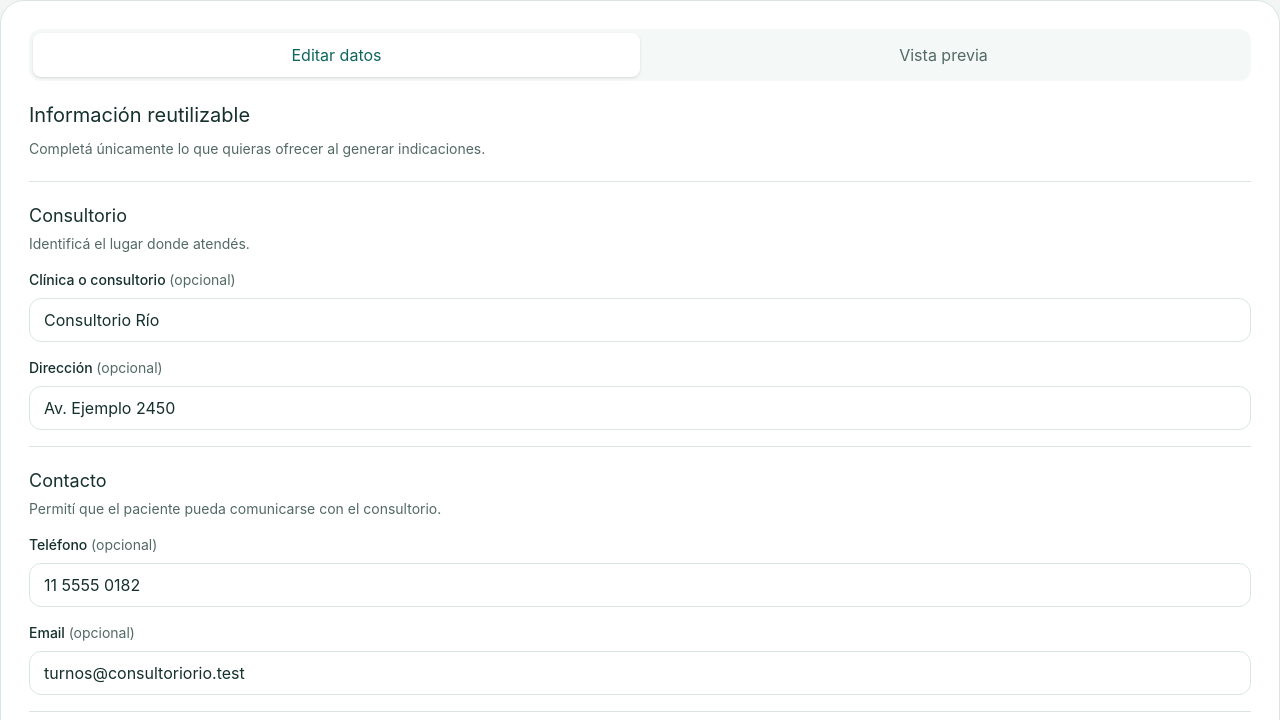
Test: DocumentSettingsForm › switches between editing and the live preview on mobile
Replace the text in the field labelled "Clínica o consultorio (opcional)" with "Consultorio del Parque" at coordinates (640, 320), box [29,298,1251,342]
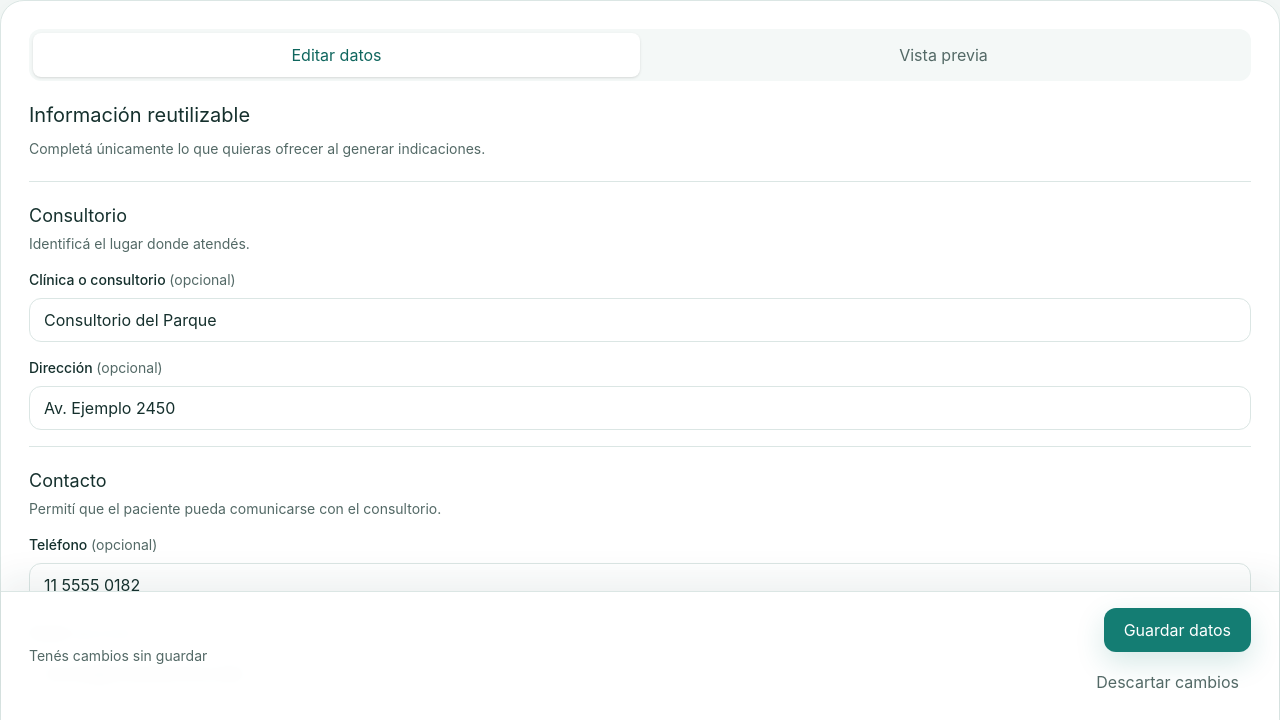
Click the button "Vista previa" at coordinates (944, 55), box [640,33,1247,77]
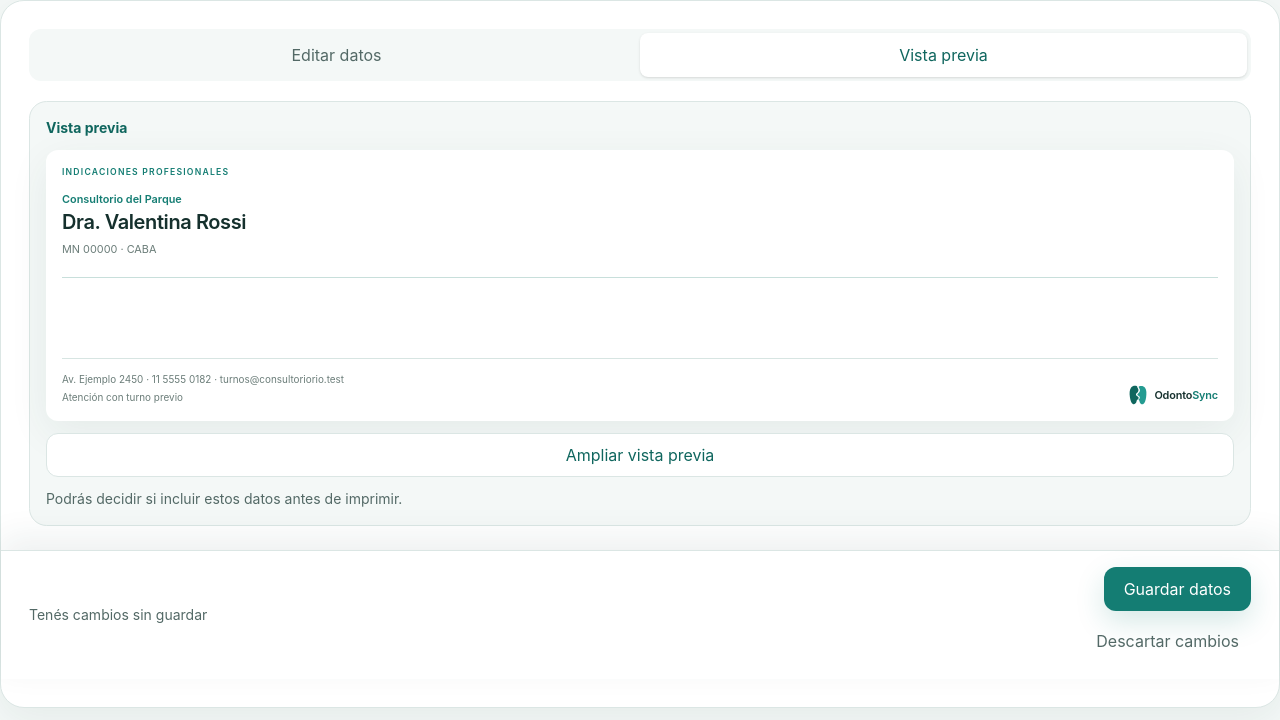
Check: the text "Consultorio del Parque" is shown, box [62,192,182,206]
